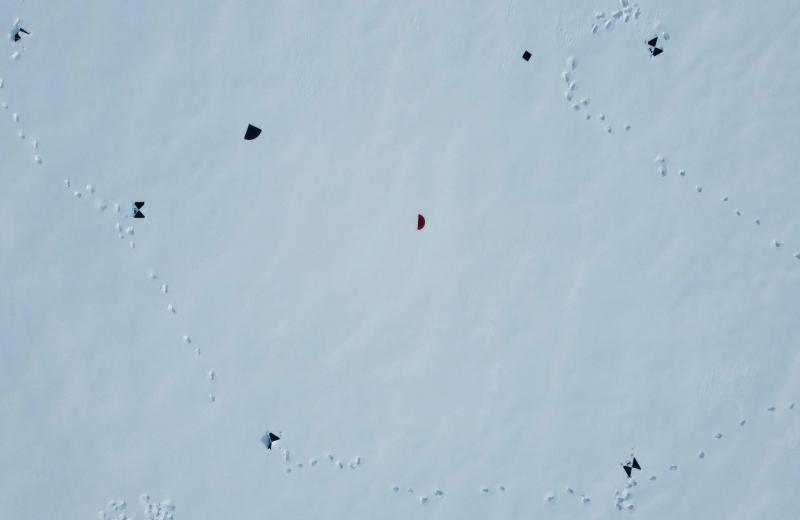Quarter Circle: (242, 123, 263, 143)
Semi Circle: (415, 214, 426, 231)
Square: (521, 48, 532, 63)
